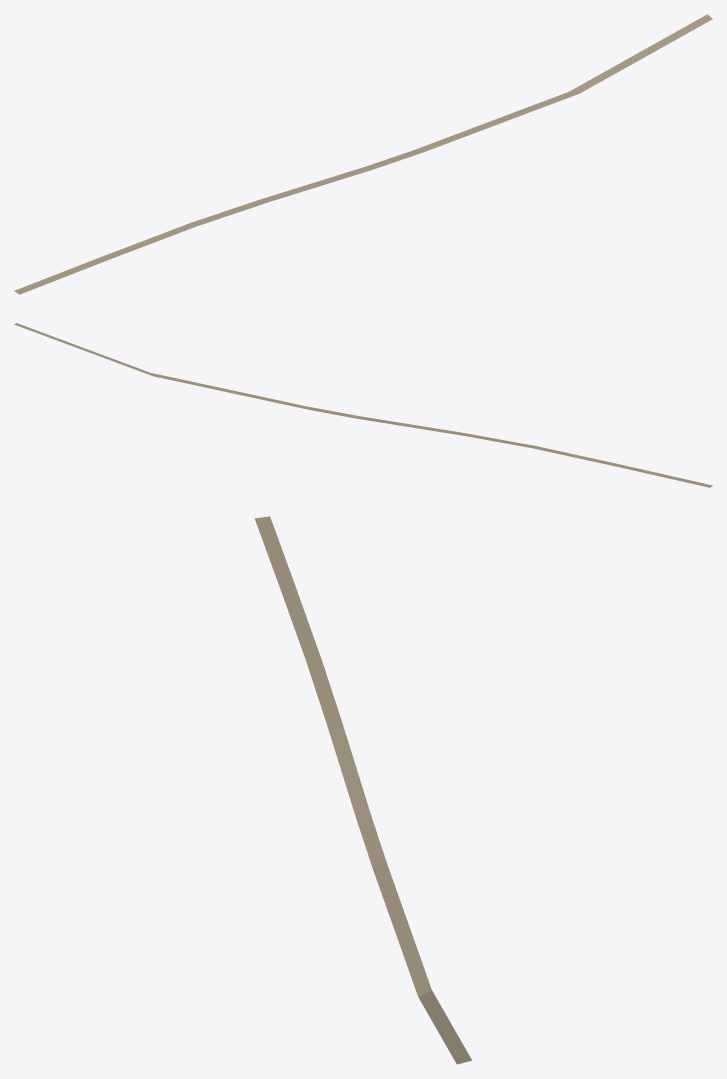
Rendered from farm_5_22_track.glb.
The picture shows the model from 3 angles, top to bottom: view 1: azimuth 30°, elevation 25°; view 2: azimuth 150°, elevation 25°; view 3: azimuth 270°, elevation 25°; orthographic projection. The views are drawn at different scales.
Visible parts, largest first — view 1: geometry_0; view 2: geometry_0; view 3: geometry_0.
Part boxes in pixels (x1,y1,x2,y2): geometry_0: [14, 14, 712, 294]; geometry_0: [14, 323, 712, 487]; geometry_0: [254, 516, 471, 1064].
Bounding box in the file's own units: 315 × 20.27 × 45.96.
